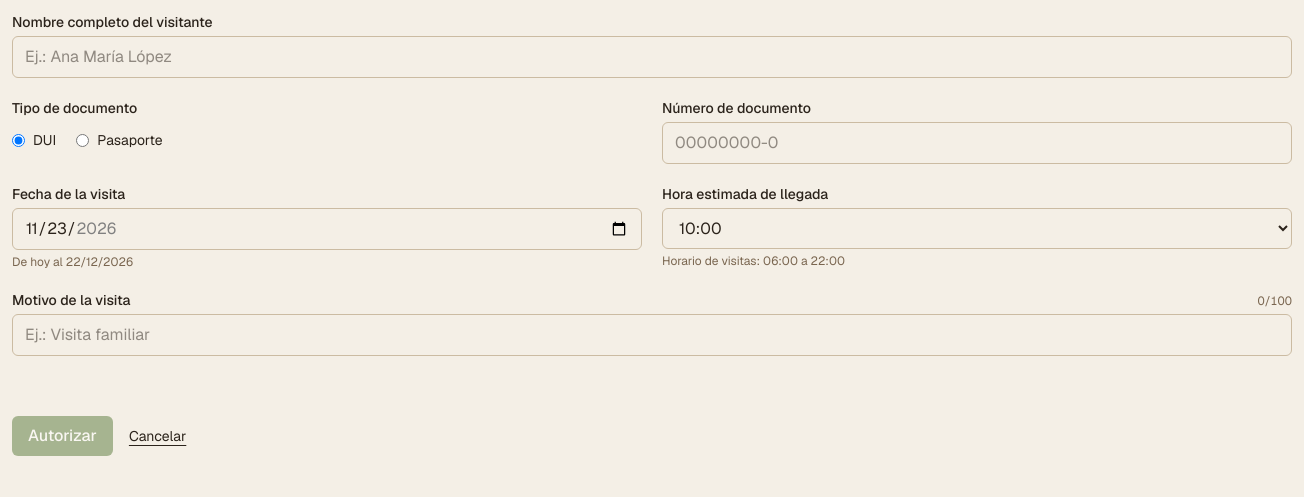
Scenario: H14. Preautorización de visitantes › AC3: con un pasaporte inválido muestra su mensaje
Click the radio button labelled "Pasaporte".
click(83, 140)  # box [76, 134, 89, 146]
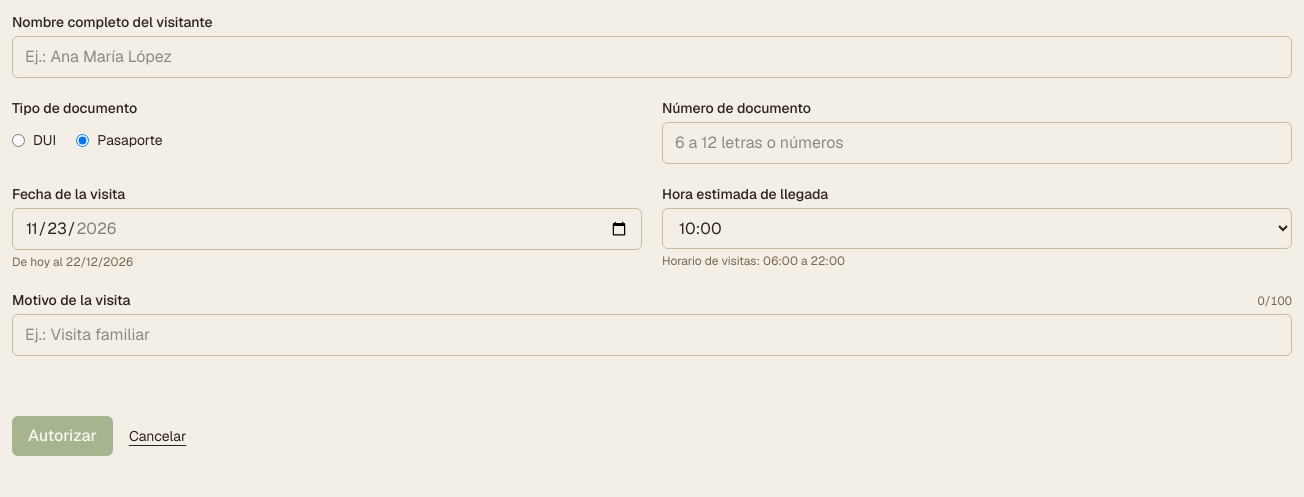
Type "AB-1" into the field with id "documentNumber".
click(977, 143); type("AB-1")  # box [662, 122, 1292, 164]
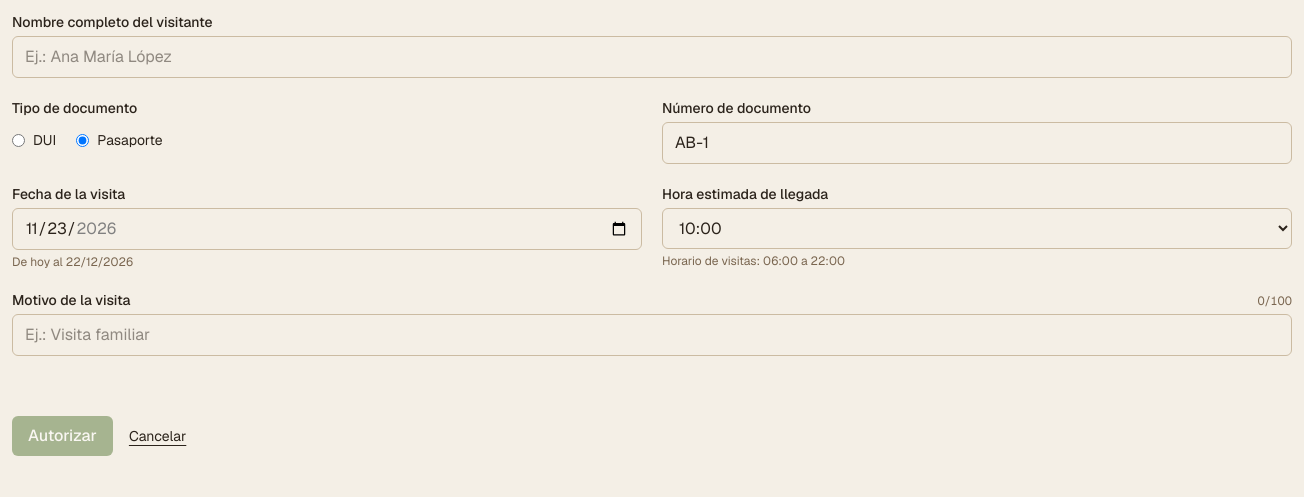
Leave the field with id "documentNumber", box [662, 122, 1292, 164]
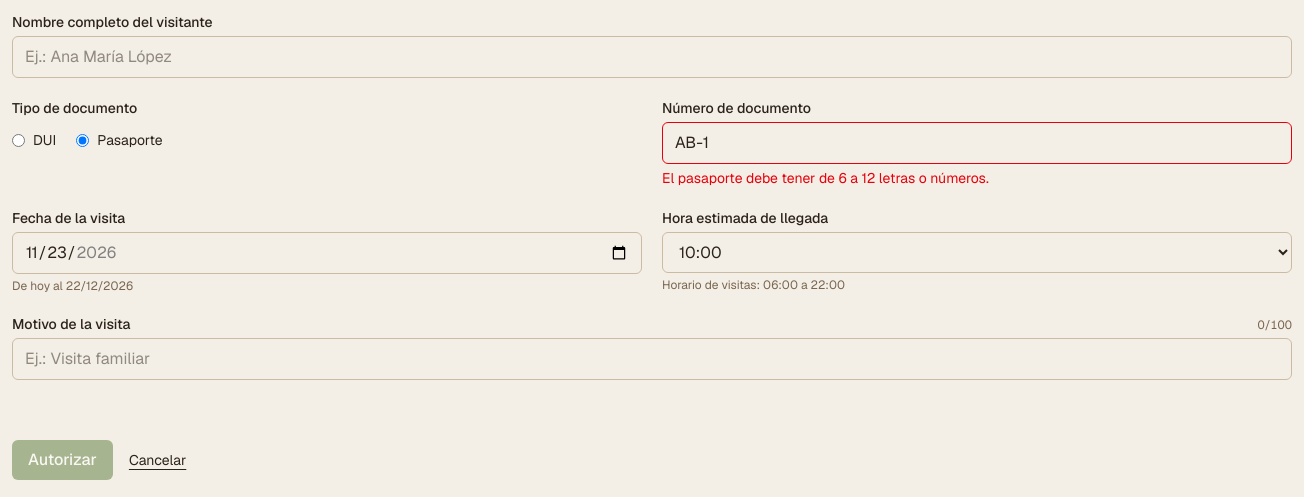
Check: the text "El pasaporte debe tener de 6 a 12 letras o números." is shown, box [662, 169, 989, 187]
